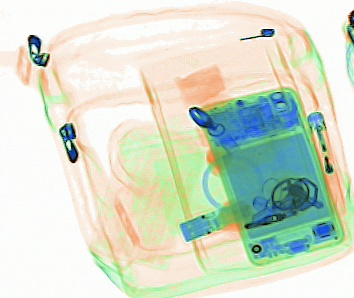lighter: (304, 111, 346, 210)
